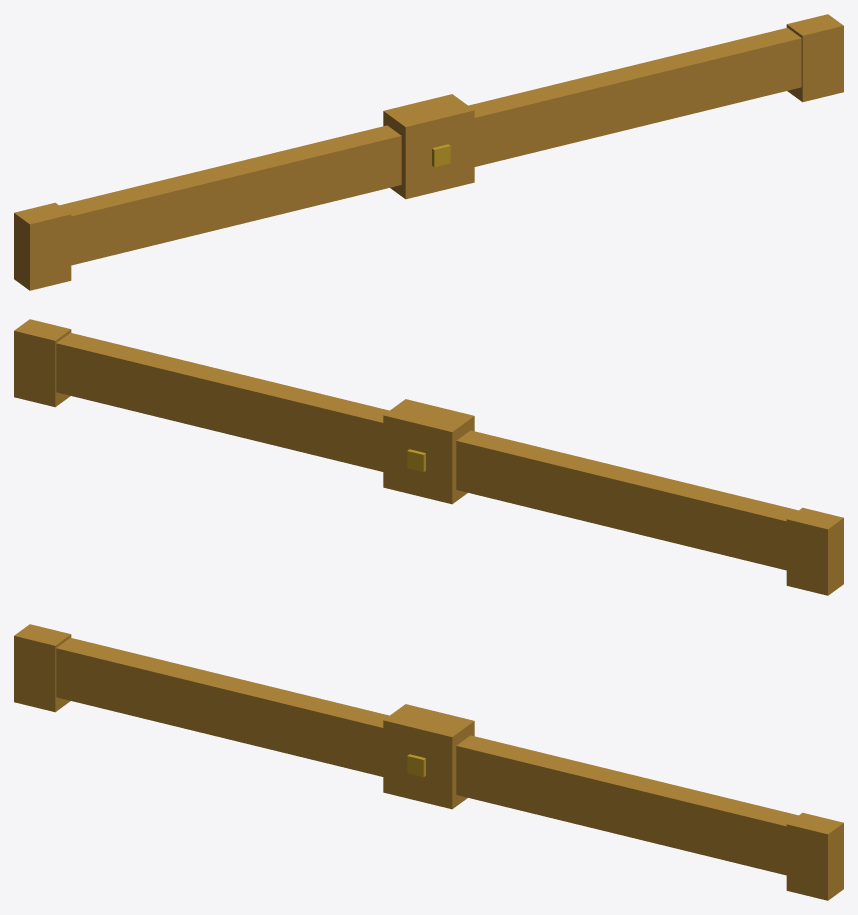
Rendered from MarketScalesBeam.fbx.
3 views of the same model, one above another, from view 1: azimuth 30°, elevation 25°; view 2: azimuth 150°, elevation 25°; view 3: azimuth 330°, elevation 25° (orthographic).
Visible parts, largest first — view 1: MarketScalesBeam; view 2: MarketScalesBeam; view 3: MarketScalesBeam.
Part boxes in pixels (<box>): MarketScalesBeam: <box>14,14,843,290</box>; MarketScalesBeam: <box>14,319,843,595</box>; MarketScalesBeam: <box>14,624,843,900</box>.
Bounding box in the file's own units: 59 × 5.2 × 3.4.
3 materials, 3 textured.
